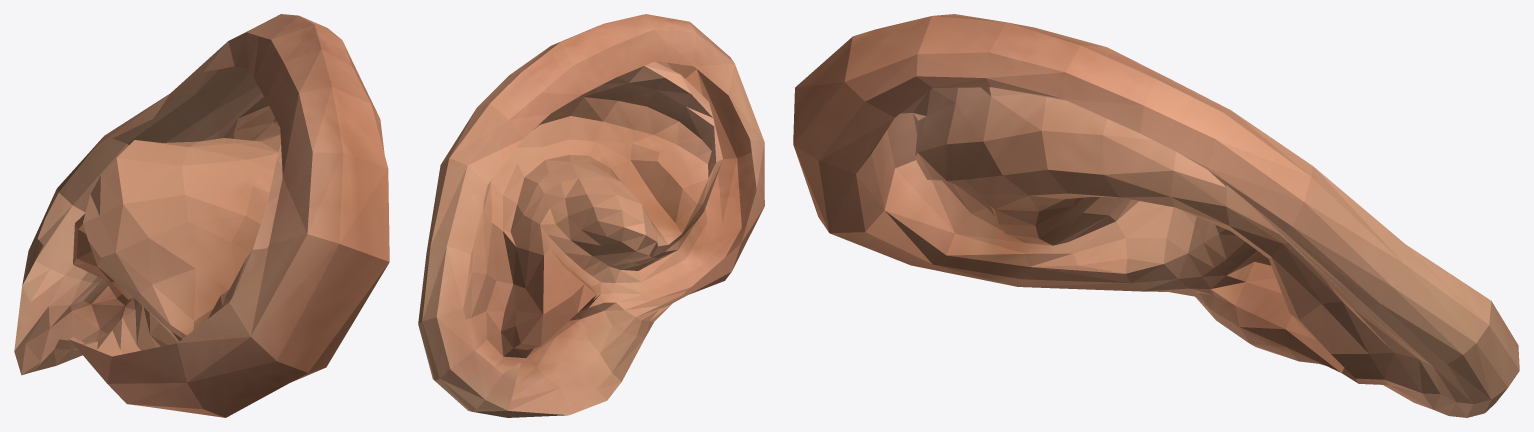
Rendered from ear.obj.
3 renders of one model, left to right at view 1: azimuth 30°, elevation 25°; view 2: azimuth 150°, elevation 25°; view 3: azimuth 270°, elevation 25°, orthographic. The views are drawn at different scales.
Visible parts, largest first — view 1: polySurface7_polySurface8_polySurface1_group1; view 2: polySurface7_polySurface8_polySurface1_group1; view 3: polySurface7_polySurface8_polySurface1_group1.
Boxes of the visible parts, box(x1,y1,x2,y2) form: polySurface7_polySurface8_polySurface1_group1: box(14, 14, 389, 417); polySurface7_polySurface8_polySurface1_group1: box(418, 14, 764, 417); polySurface7_polySurface8_polySurface1_group1: box(793, 14, 1519, 417).
Size of the model in its own units: 2.01 by 2.54 by 3.94.
Materials: 1 (1 with a texture image).
